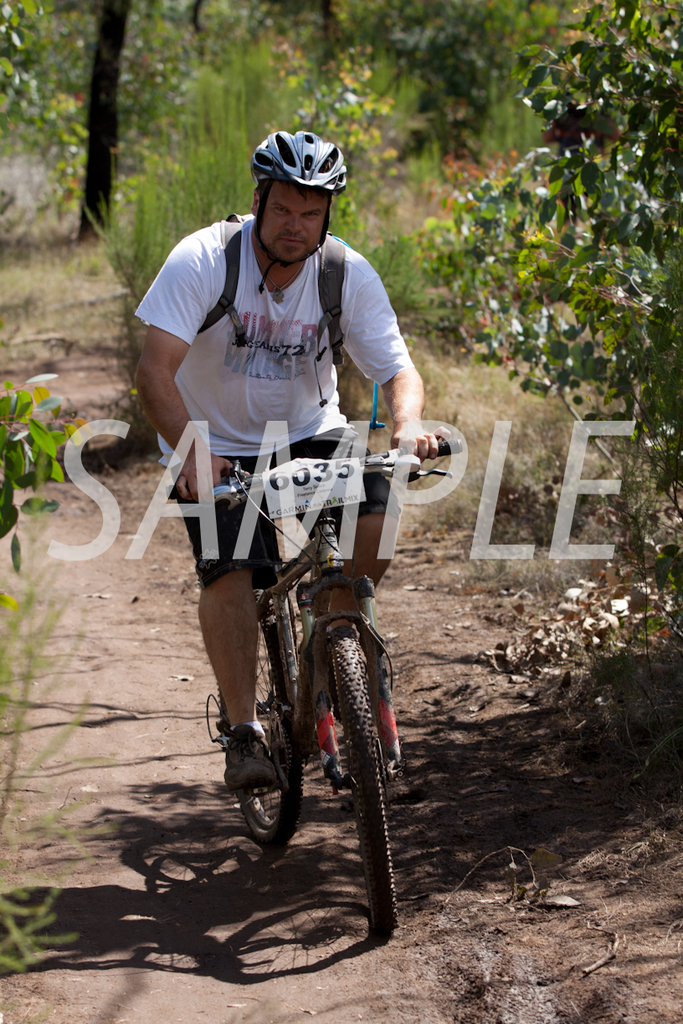Bike_toward: (180, 433, 468, 935)
